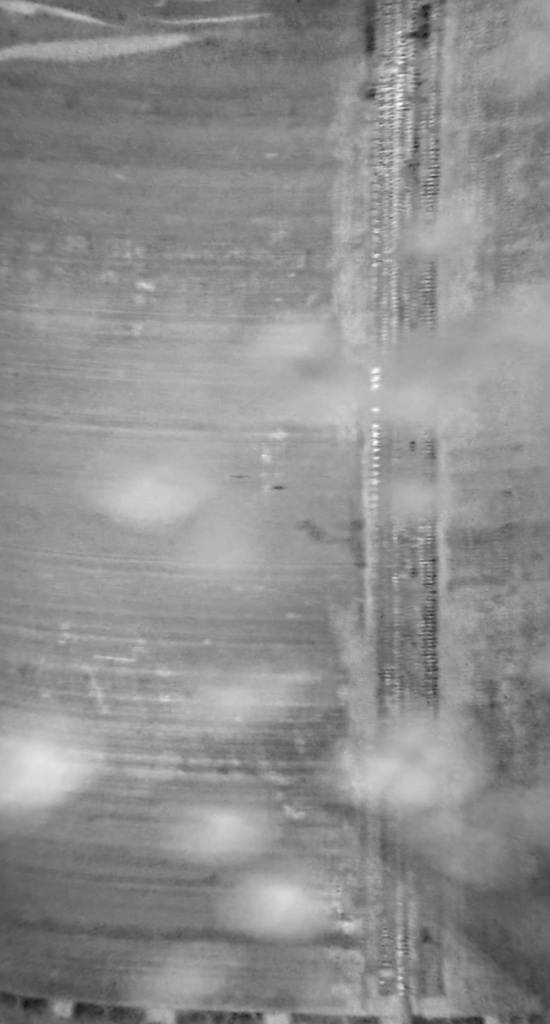splice: (356, 1, 453, 1023)
